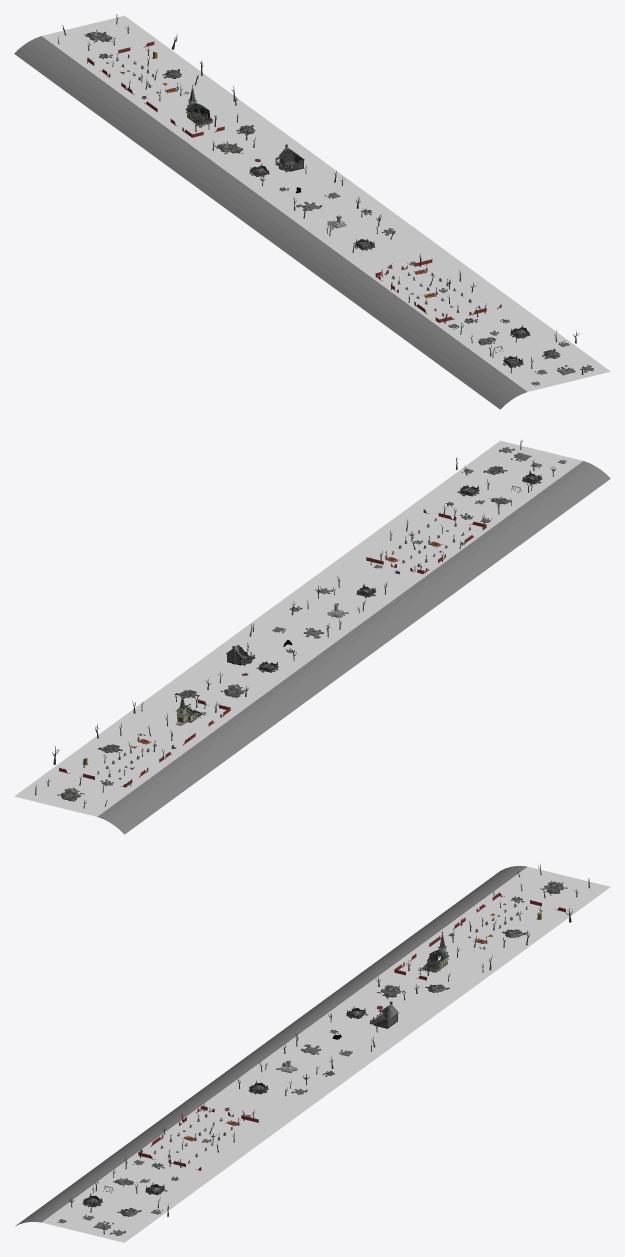
The model's file is _lvl_halloween_near_bg.glb.
3 views of the same model, one above another, from view 1: azimuth 30°, elevation 25°; view 2: azimuth 150°, elevation 25°; view 3: azimuth 330°, elevation 25° (orthographic).
Parts seen in each view (by area): view 1: ground (1), bg_near_plane_city, SA_Bld_Church_Damaged_01; view 2: ground (1), bg_near_plane_city; view 3: ground (1), bg_near_plane_city, SA_Bld_Church_Damaged_01.
Boxes of the visible parts, left/top/right/bottom form: ground (1): left=42, top=15, right=610, bottom=391; bg_near_plane_city: left=14, top=36, right=527, bottom=409; SA_Bld_Church_Damaged_01: left=185, top=84, right=213, bottom=127; ground (1): left=14, top=440, right=582, bottom=816; bg_near_plane_city: left=97, top=461, right=610, bottom=834; ground (1): left=42, top=866, right=610, bottom=1242; bg_near_plane_city: left=15, top=866, right=526, bottom=1226; SA_Bld_Church_Damaged_01: left=418, top=931, right=449, bottom=972.
Size of the model in its own units: 62.4 by 20.78 by 450.
2 materials, 1 textured.
